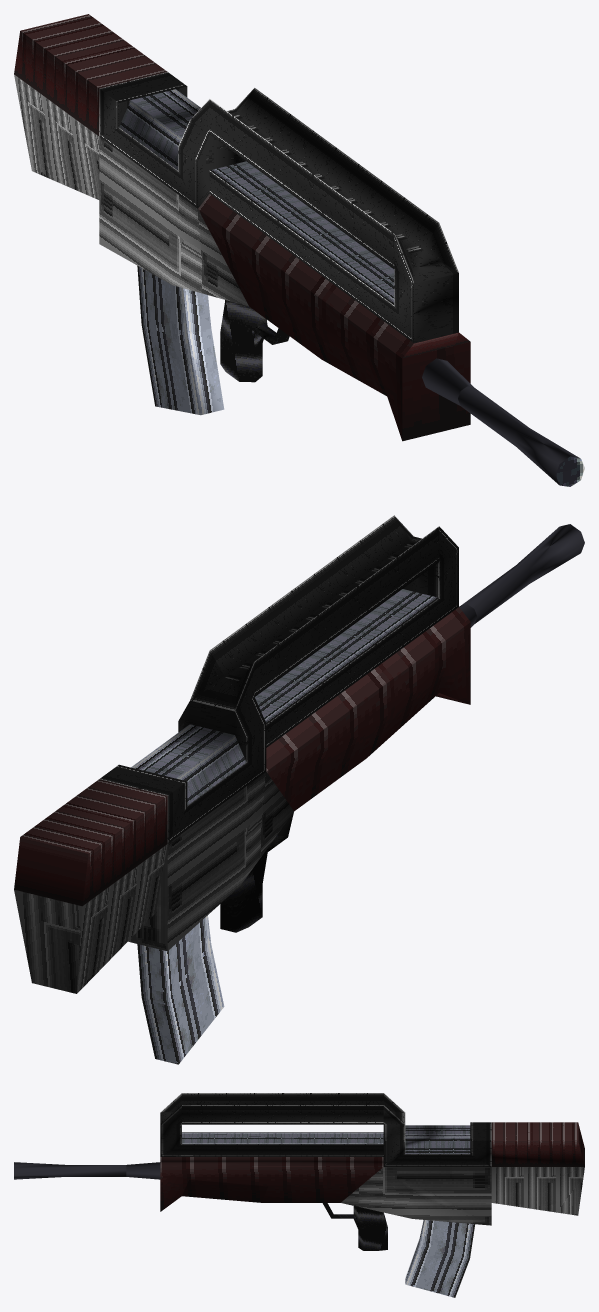
3 views of the same model, one above another, from view 1: azimuth 30°, elevation 25°; view 2: azimuth 150°, elevation 25°; view 3: azimuth 270°, elevation 25° (orthographic). The views are drawn at different scales.
Parts seen in each view (by area): view 1: gun; view 2: gun; view 3: gun.
Part boxes in pixels (x1,y1,x2,y2): gun: (14,14,584,486); gun: (14,515,584,1064); gun: (14,1093,584,1297).
Size of the model in its own units: 84.13 by 421 by 1112.
8 materials, 8 textured.
